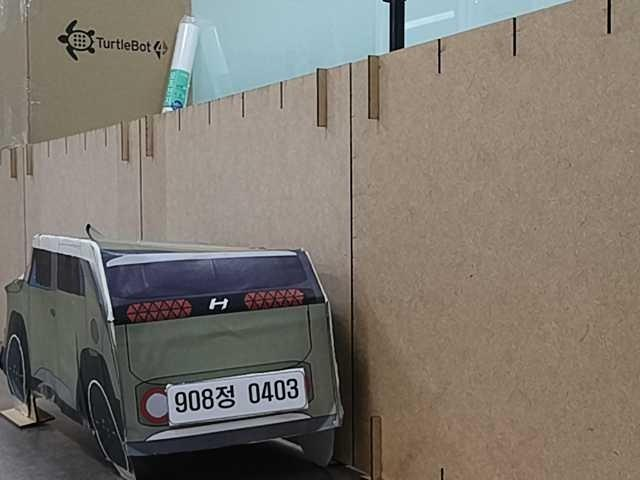car: (4, 234, 343, 480)
id: (167, 367, 306, 423)
